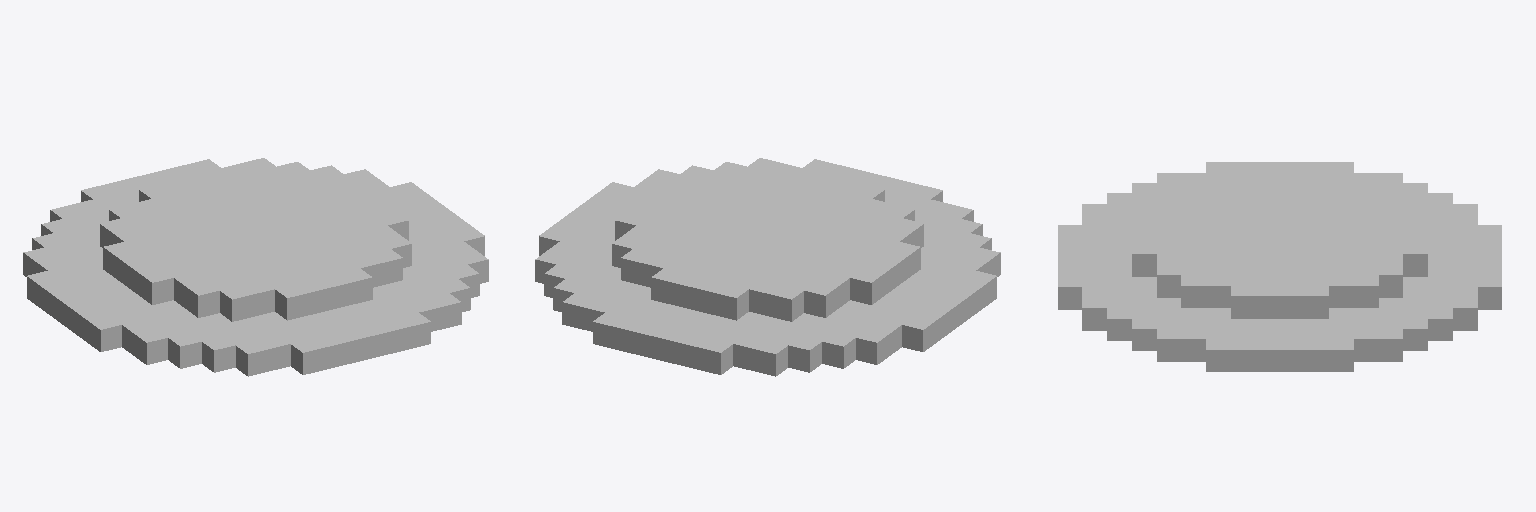
File: coin.obj
3 renders of one model, left to right at view 1: azimuth 30°, elevation 25°; view 2: azimuth 150°, elevation 25°; view 3: azimuth 270°, elevation 25°, orthographic.
Parts seen in each view (by area): view 1: object 1; view 2: object 1; view 3: object 1.
Boxes of the visible parts, box(x1,y1,x2,y2) form: object 1: box(23, 158, 488, 376); object 1: box(535, 158, 1000, 376); object 1: box(1058, 162, 1501, 371).
Bounding box in the file's own units: 1.8 × 0.2 × 1.8.